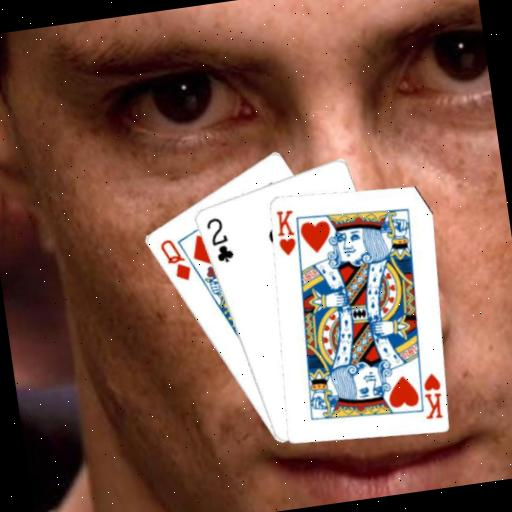2C: (202, 213, 236, 267)
KH: (416, 368, 446, 422), (270, 205, 300, 258)
QD: (155, 234, 193, 286)
